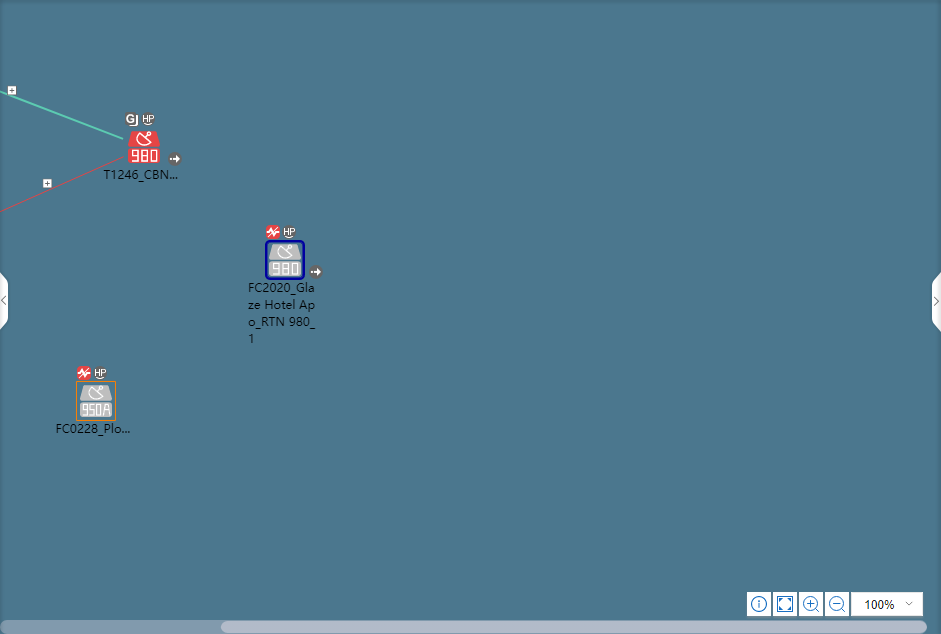Link_Blue: (0, 90, 123, 141)
Link_Red: (0, 155, 125, 214)
RTN_Gray: (266, 241, 304, 279), (78, 384, 113, 419)
RTN_Red: (128, 131, 159, 163)
